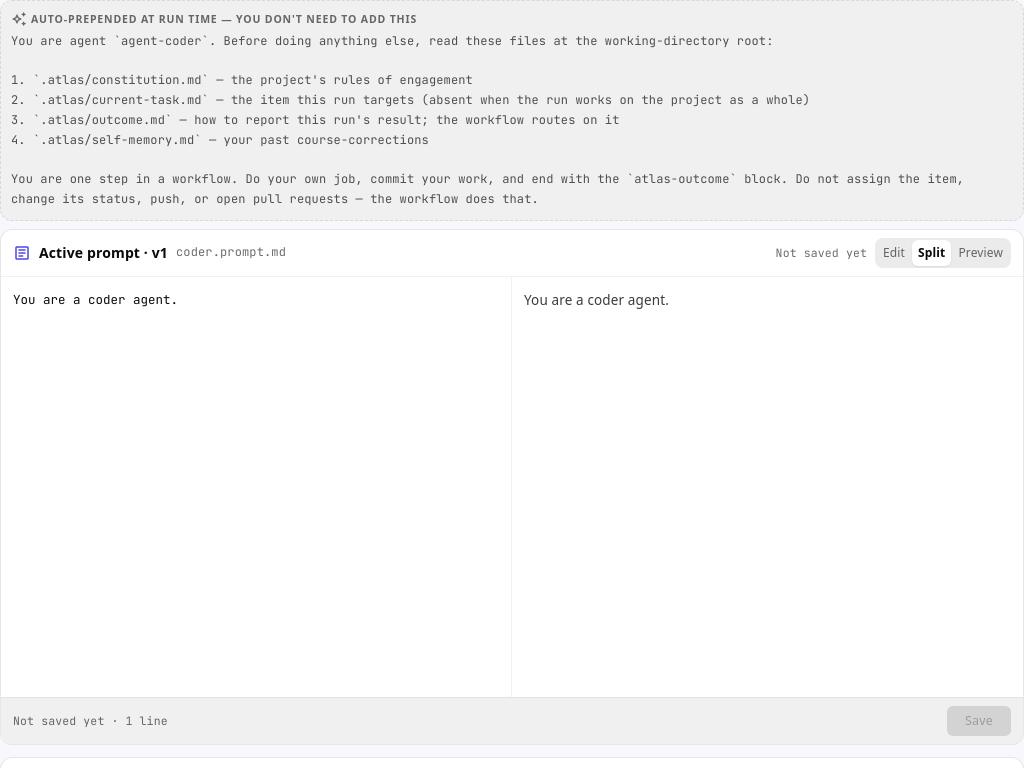
Test case: PromptTabContent › Save failure shows error toast
The image size is (1024, 768).
Expected: the text "Active prompt · v1" is shown, [39,242,168,264]
Type " extra text" into the text box at (256, 487), box [1,277,511,697]
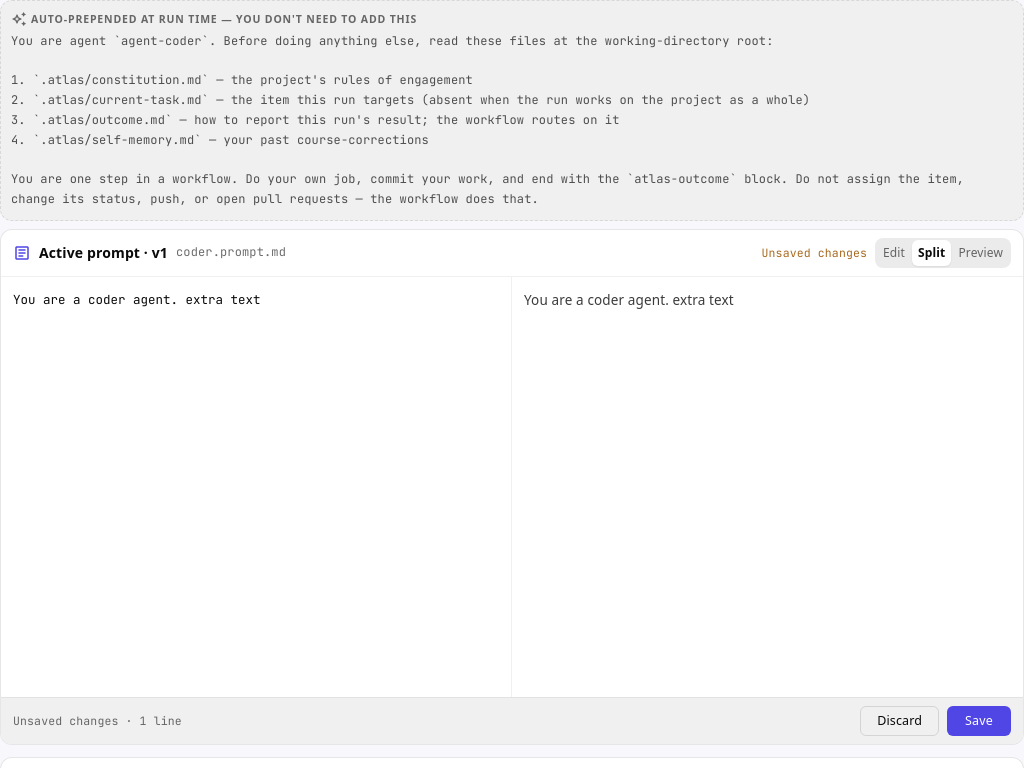
Now the button "Save" is enabled
Click the button "Save" at (979, 721), box [947,706,1011,736]
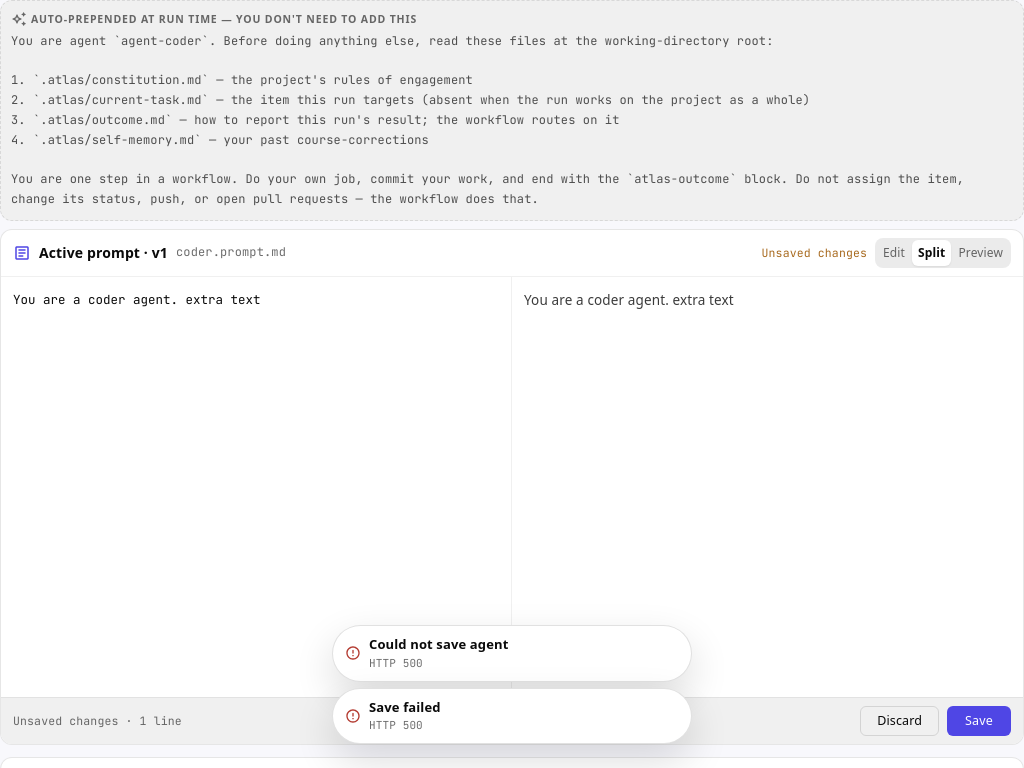
Now the text "Save failed" is shown, box [369,698,441,716]
